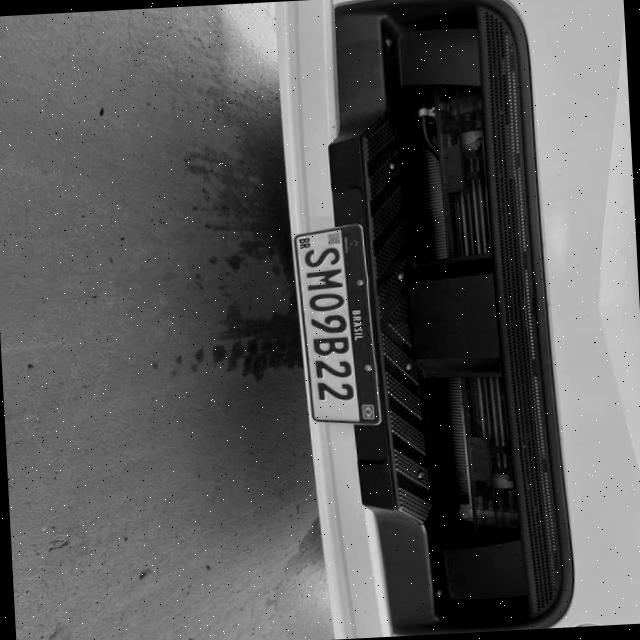placa_mercosul: (296, 226, 383, 425)
